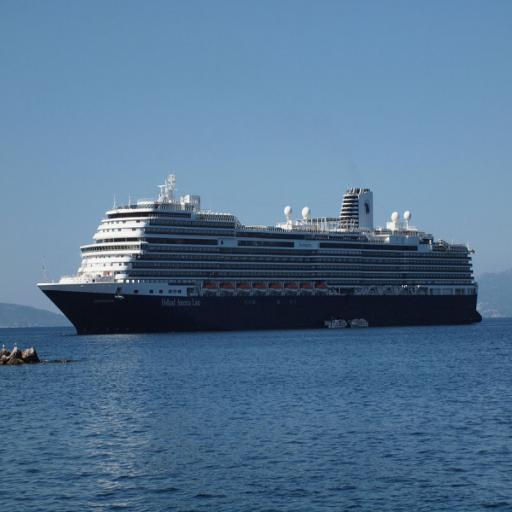cruises: (33, 168, 484, 339)
